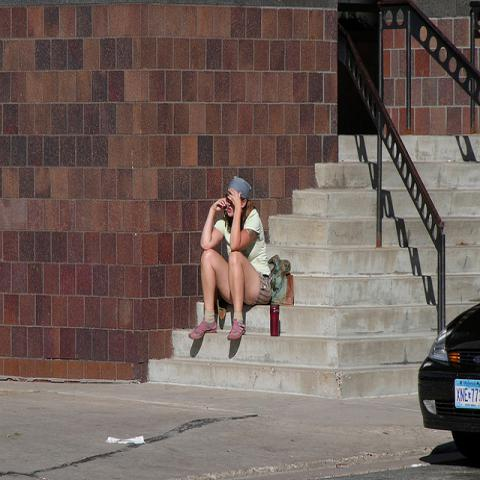car: (418, 300, 480, 466)
